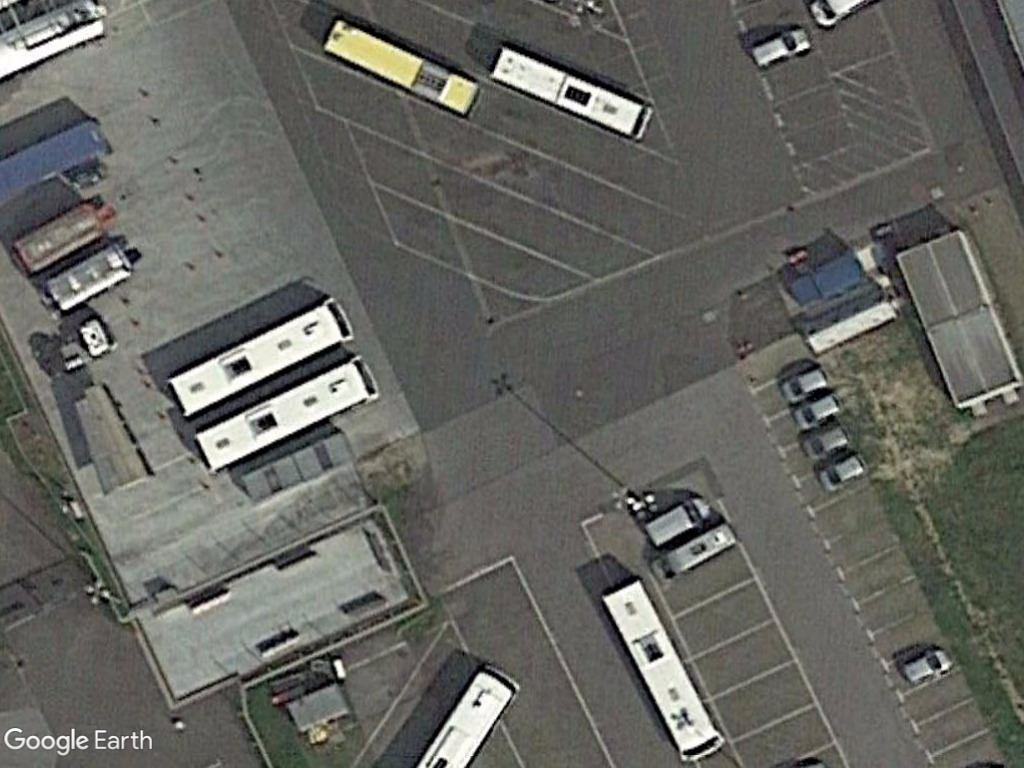bus: (163, 290, 357, 424), (595, 573, 727, 767), (188, 350, 381, 480), (314, 10, 485, 119), (481, 40, 654, 144)
car: (745, 24, 816, 72), (802, 419, 853, 468), (819, 451, 871, 496), (792, 391, 845, 434), (778, 366, 830, 408), (903, 647, 957, 687)
van: (636, 493, 713, 555)
